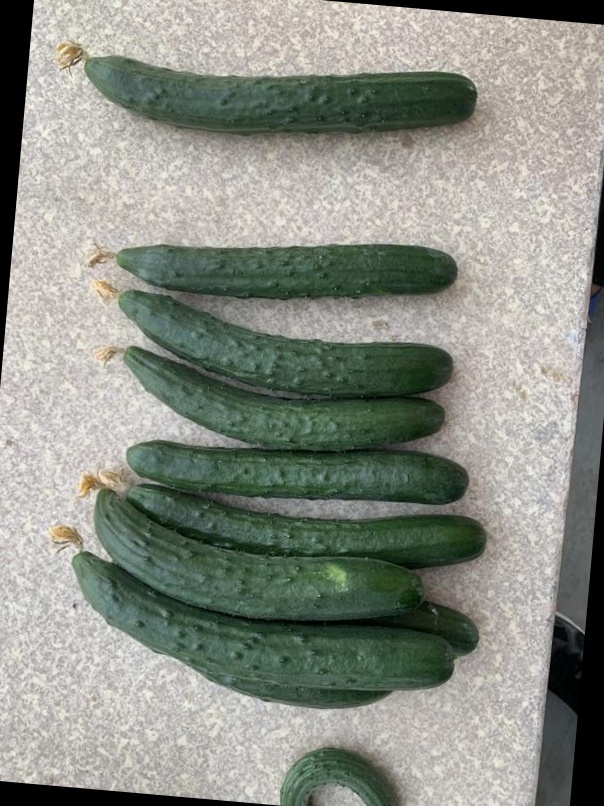mature: (68, 553, 453, 691), (88, 492, 426, 624), (113, 339, 448, 452), (111, 287, 450, 397), (77, 49, 477, 134), (122, 477, 482, 564), (118, 437, 475, 504), (111, 241, 460, 296)
